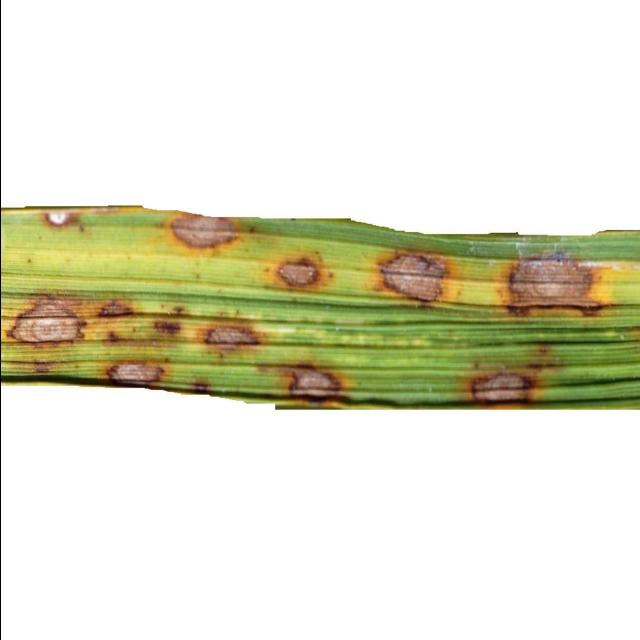Brown spot: (0, 180, 640, 458)
